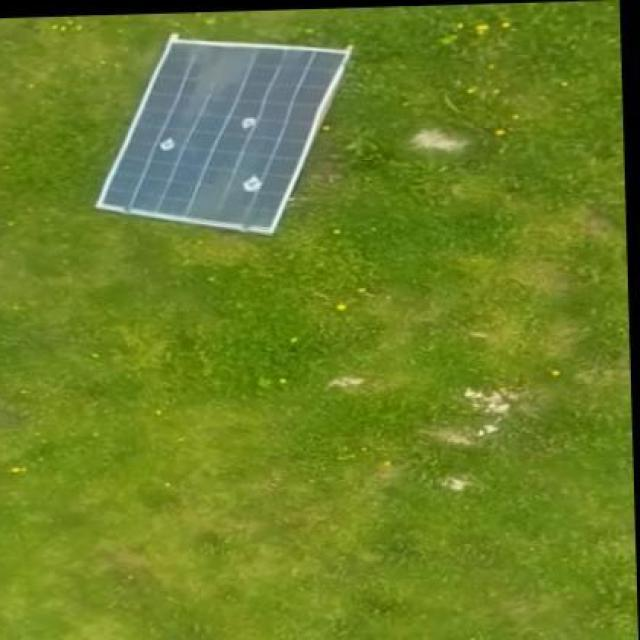soiled: (96, 32, 349, 238)
